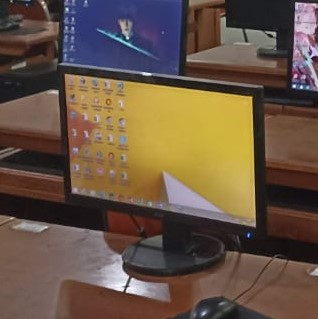monitor: (57, 65, 268, 272), (58, 0, 189, 76), (285, 0, 317, 101), (224, 0, 290, 33)
